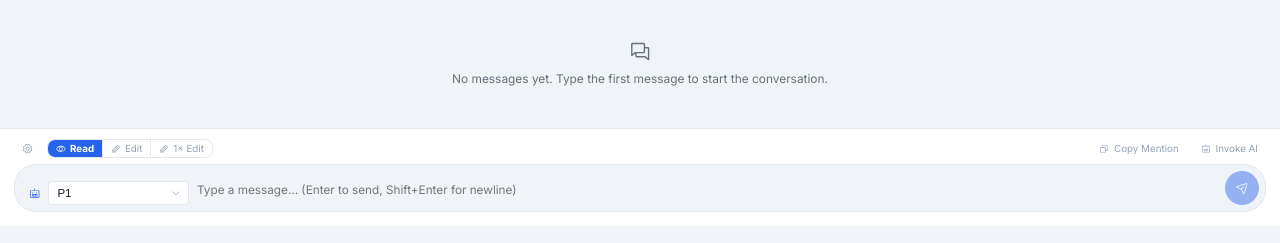
ConversationView send-time action › does not retry a decision the server already made
Type "hello worker" into the text box with placeholder "Type a message… (Enter to send, Shift+Enter for newline)" at (707, 191), box [197,177,1217,205]
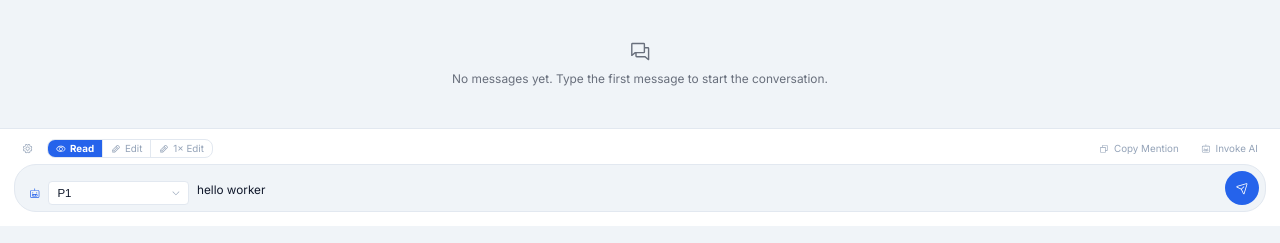
Submit the form, box [0,128,1279,226]
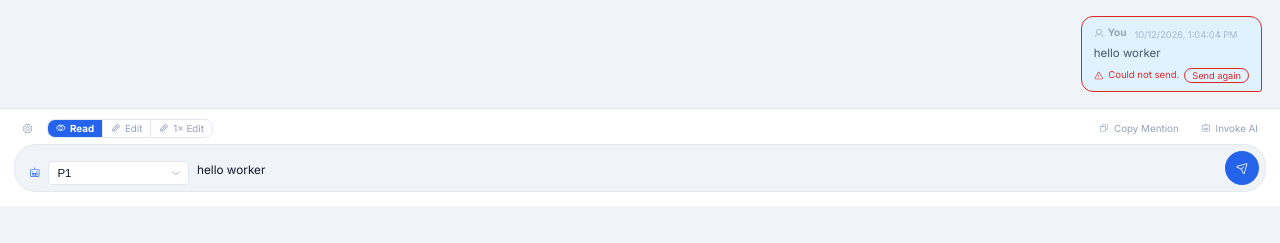
Now the element with class "is-failed" is shown, box [1081,16,1262,92]
